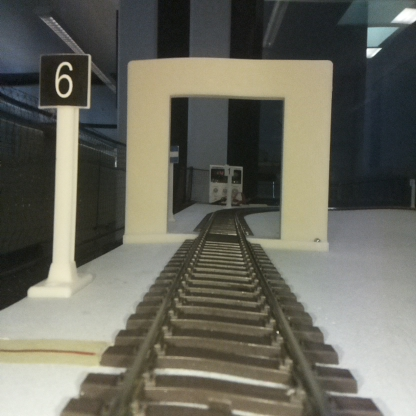black-info-6: (39, 56, 88, 297)
start: (168, 144, 178, 218)
white-info-1: (225, 165, 233, 214)
